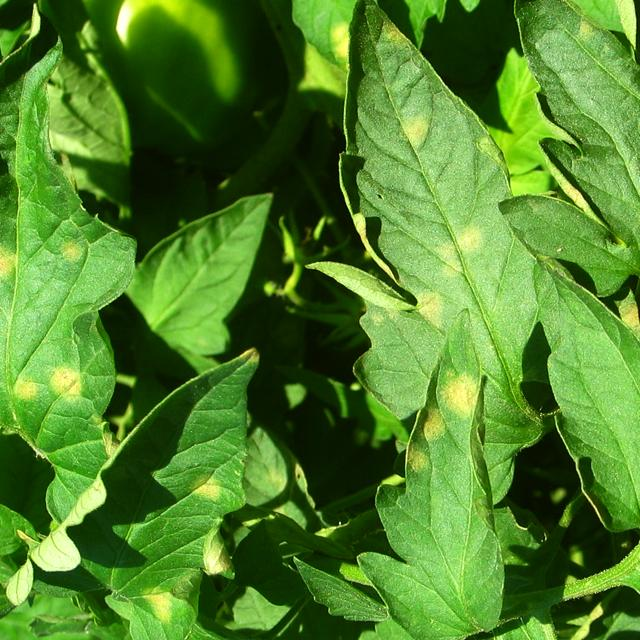Tomato mold leaf: (292, 1, 568, 457), (17, 364, 265, 640), (0, 35, 116, 531), (534, 221, 640, 640), (376, 307, 506, 640), (504, 0, 640, 284)
